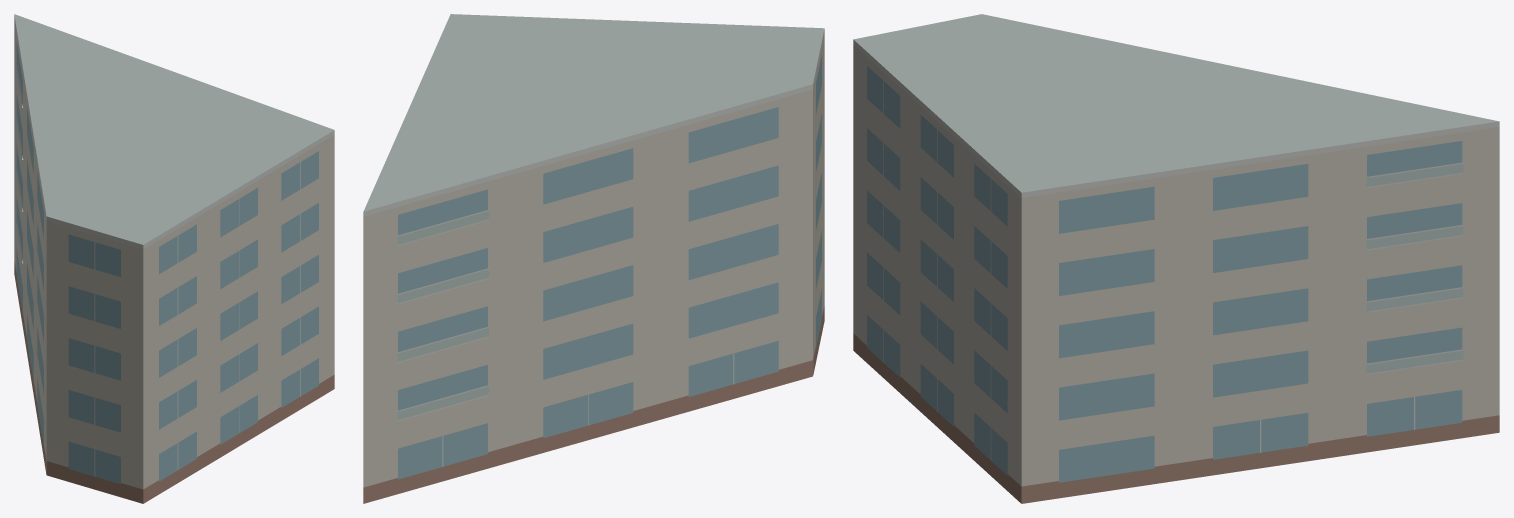
The model's file is survey-upis-32527231.glb.
3 views of the same model, side by side, from view 1: azimuth 30°, elevation 25°; view 2: azimuth 150°, elevation 25°; view 3: azimuth 270°, elevation 25° (orthographic). The views are drawn at different scales.
Parts seen in each view (by area): view 1: survey-upis-32527231.tmp; view 2: survey-upis-32527231.tmp; view 3: survey-upis-32527231.tmp.
Boxes of the visible parts, x1=… form: survey-upis-32527231.tmp: x1=14, y1=14, x2=334, y2=503; survey-upis-32527231.tmp: x1=363, y1=14, x2=824, y2=503; survey-upis-32527231.tmp: x1=853, y1=14, x2=1499, y2=503.
Bounding box in the file's own units: 17.12 × 13.9 × 26.17.
